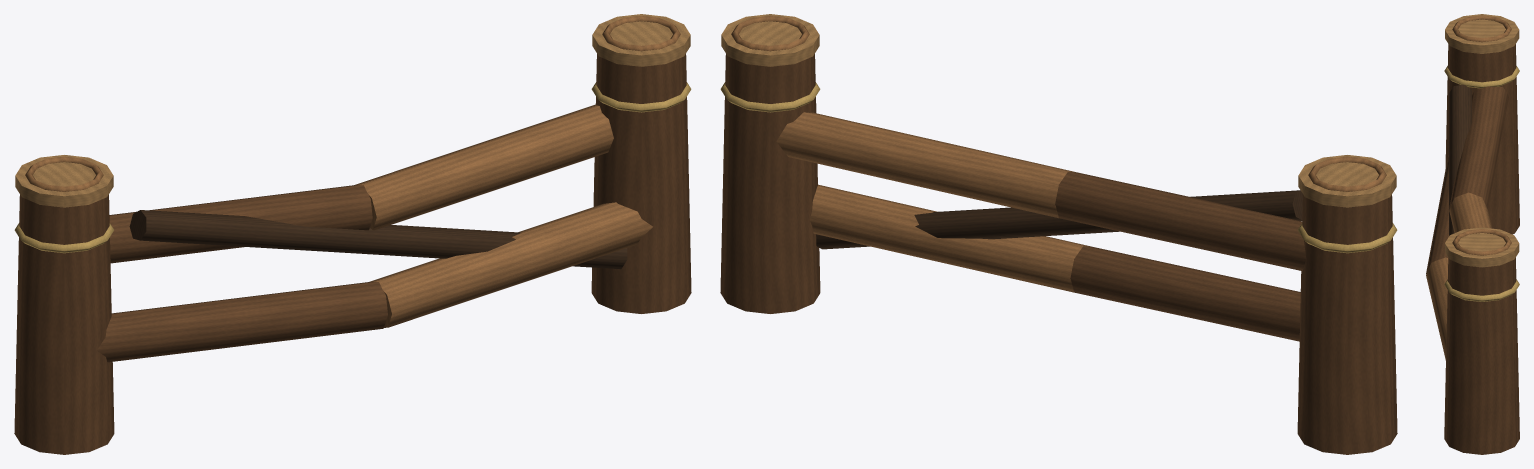
File: fence-3.fbx
The picture shows the model from 3 angles, left to right: view 1: azimuth 30°, elevation 25°; view 2: azimuth 150°, elevation 25°; view 3: azimuth 270°, elevation 25°; orthographic projection. The views are drawn at different scales.
Visible parts, largest first — view 1: fence-3__Geometry; view 2: fence-3__Geometry; view 3: fence-3__Geometry.
Boxes of the visible parts, <box> form: fence-3__Geometry: <box>14,14,691,454</box>; fence-3__Geometry: <box>720,14,1397,454</box>; fence-3__Geometry: <box>1426,14,1519,454</box>.
Size of the model in its own units: 2.76 by 1.04 by 0.4466.
